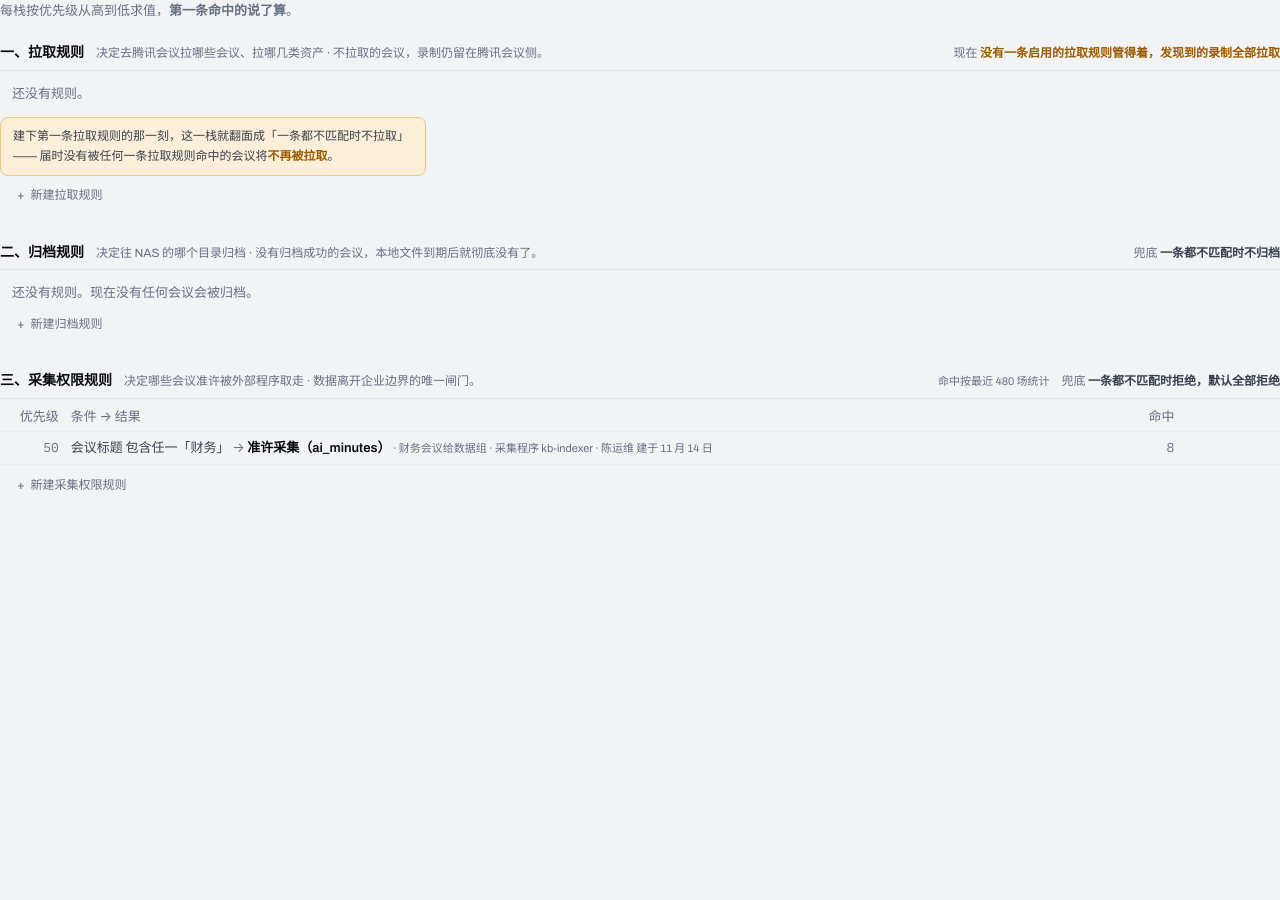
Scenario: 命中的会议 › 命中数直接显示，不用先点一下——数字仍然点得开命中列表
This screenshot has width=1280, height=900.
// 数字还是可点的：点开还是那张命中列表
Step 1. Click the button named "8 场命中" → (1139, 448), box [1104, 438, 1174, 458]
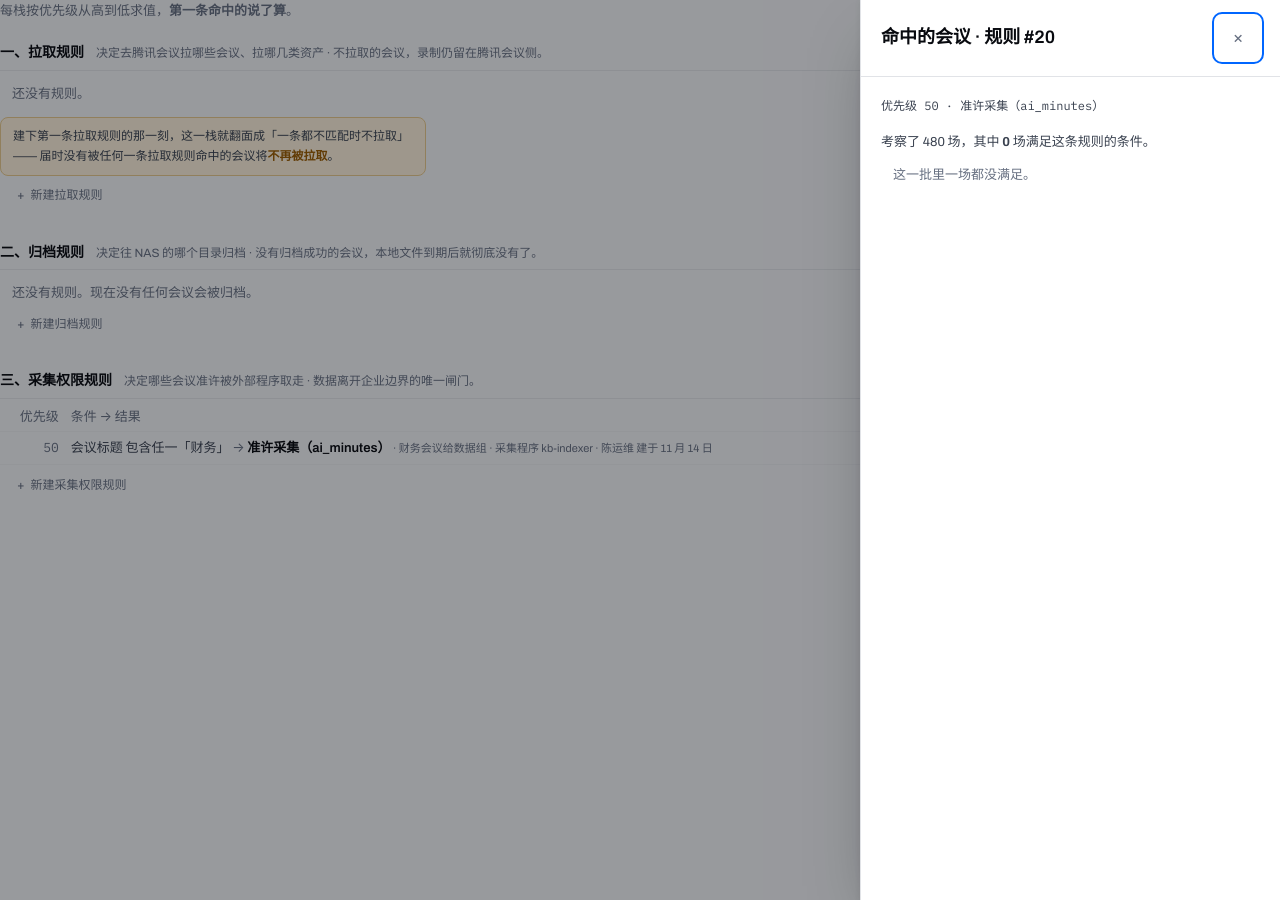
Now the dialog "命中的会议" is shown, box [860, 0, 1279, 899]
